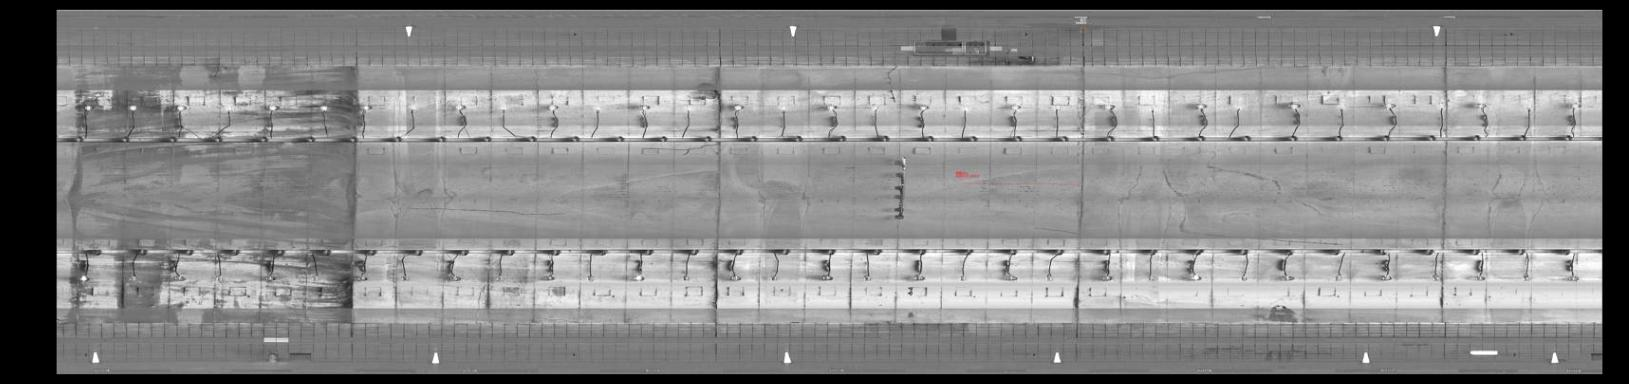light: (996, 270, 1018, 285), (172, 99, 192, 115), (1384, 98, 1403, 114), (452, 100, 473, 114), (1193, 99, 1211, 114), (908, 272, 931, 284), (350, 271, 371, 284), (1184, 271, 1205, 284), (1288, 98, 1306, 113), (1145, 100, 1163, 115), (219, 100, 237, 115), (124, 99, 141, 114), (1007, 100, 1029, 112), (952, 271, 970, 285), (1048, 101, 1068, 114), (264, 101, 284, 114), (76, 271, 96, 284), (123, 272, 145, 283), (543, 99, 560, 114), (260, 272, 281, 284), (1104, 100, 1123, 113), (915, 101, 935, 113), (729, 101, 749, 113), (442, 272, 461, 284), (1435, 100, 1450, 115), (1475, 99, 1492, 113), (1334, 99, 1351, 113), (959, 101, 976, 115), (1038, 270, 1054, 284), (405, 99, 423, 112), (541, 271, 559, 284), (169, 271, 188, 283), (857, 272, 876, 284), (1278, 272, 1297, 284), (1428, 270, 1444, 284), (1329, 272, 1348, 283), (680, 100, 697, 113), (678, 271, 695, 284), (212, 272, 230, 284), (1235, 271, 1253, 283), (1518, 272, 1535, 284), (1565, 272, 1582, 284), (819, 272, 837, 283), (1521, 100, 1535, 114), (1233, 100, 1249, 113), (359, 101, 375, 114), (80, 101, 96, 114), (497, 101, 513, 113), (582, 272, 598, 284), (1378, 272, 1394, 284), (1472, 272, 1489, 284), (823, 102, 843, 112), (1569, 100, 1584, 112), (395, 274, 413, 284), (630, 273, 646, 284), (1099, 272, 1116, 283), (316, 103, 333, 113), (1142, 273, 1159, 283), (493, 272, 507, 285), (308, 273, 323, 284), (589, 104, 606, 114), (870, 100, 882, 113), (729, 272, 744, 283), (637, 101, 652, 111), (766, 275, 782, 284), (778, 103, 792, 114)
